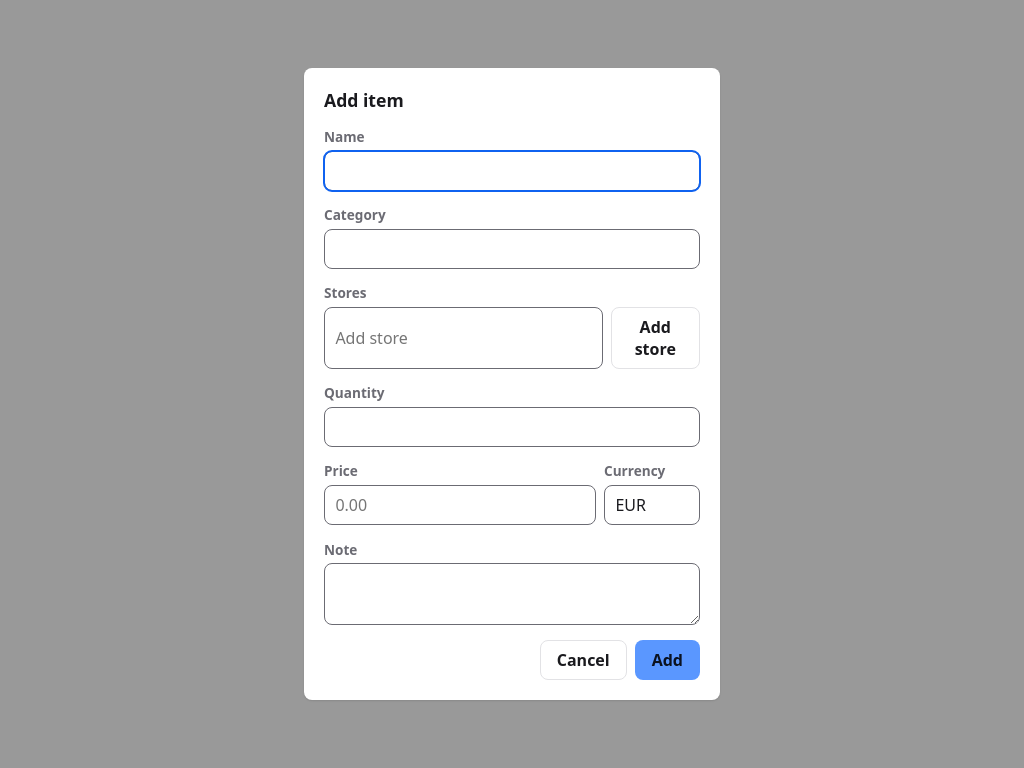
Scenario: ItemDialog (add mode) › keeps the dialog open with the item loaded when the adopt fails (T-140)
This screenshot has width=1024, height=768.
Type "Mi" into the field labelled "Name" at [512, 170], box [324,150,700,190]
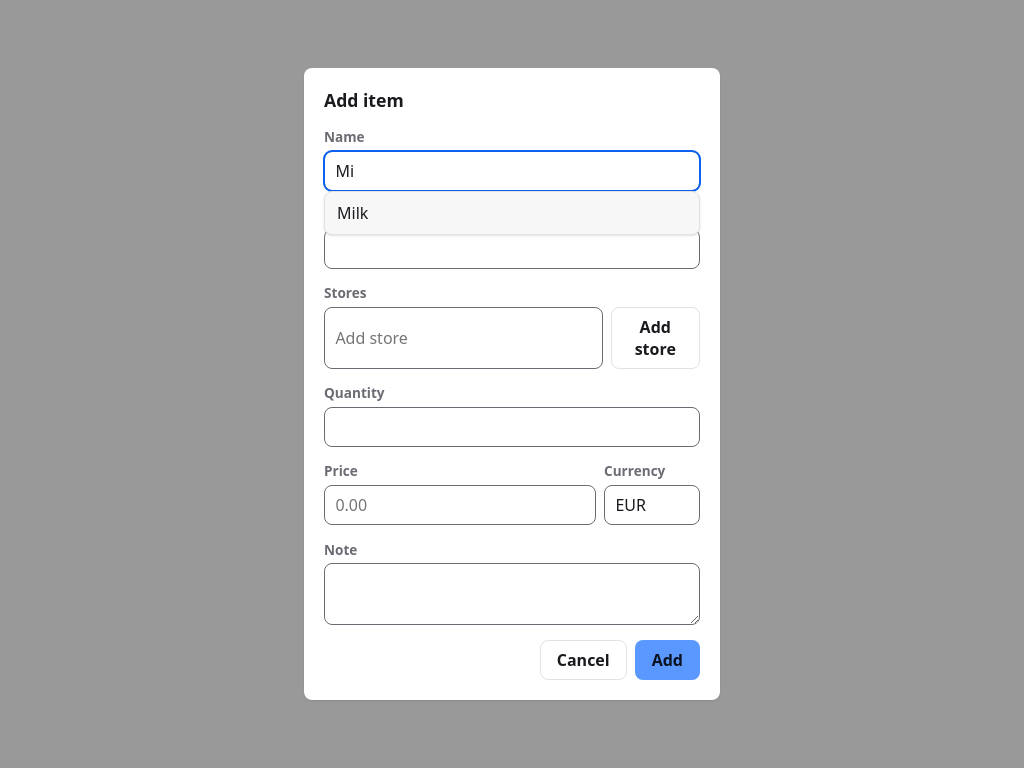
Click the button "Milk" at [353, 213], box [329,196,695,230]
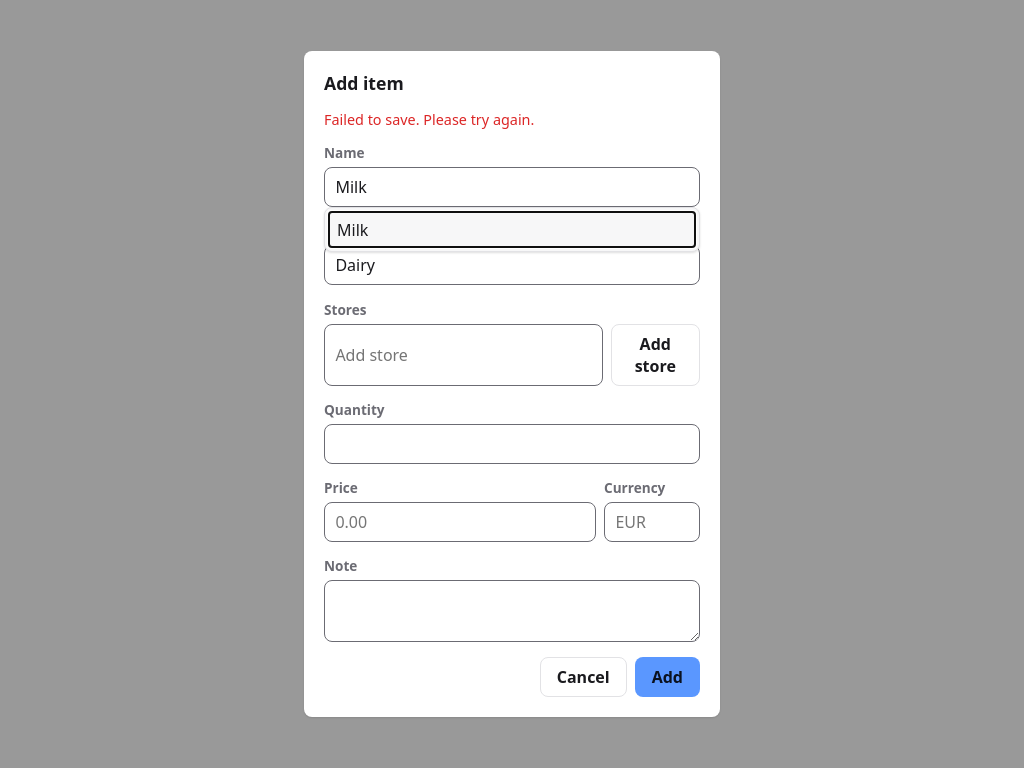
Expected: the message reads "Failed to save. Please try again.", [324,110,534,129]
Expected: the field labelled "Name" holds "Milk", [324,167,700,207]
Expected: the field labelled "Category" holds "Dairy", [324,245,700,285]
